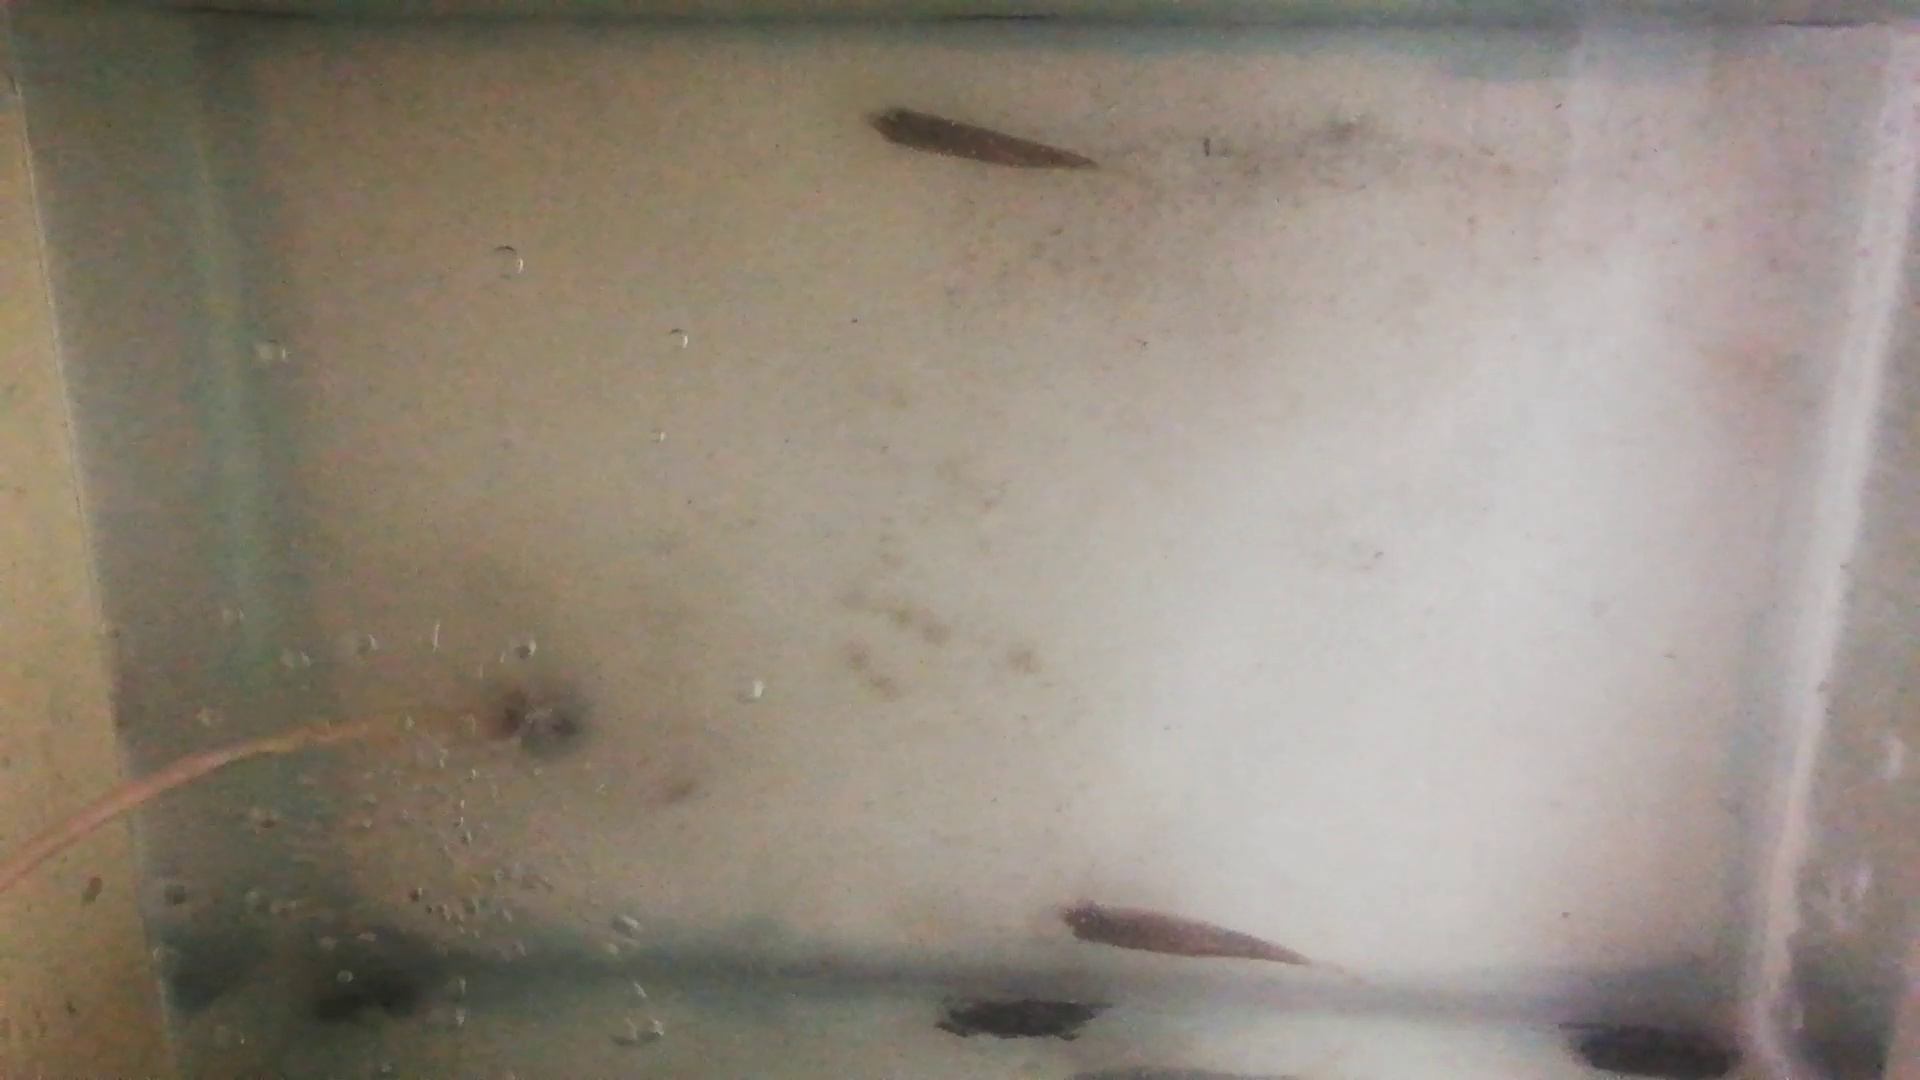fish: (1058, 898, 1313, 968), (860, 104, 1092, 171)
